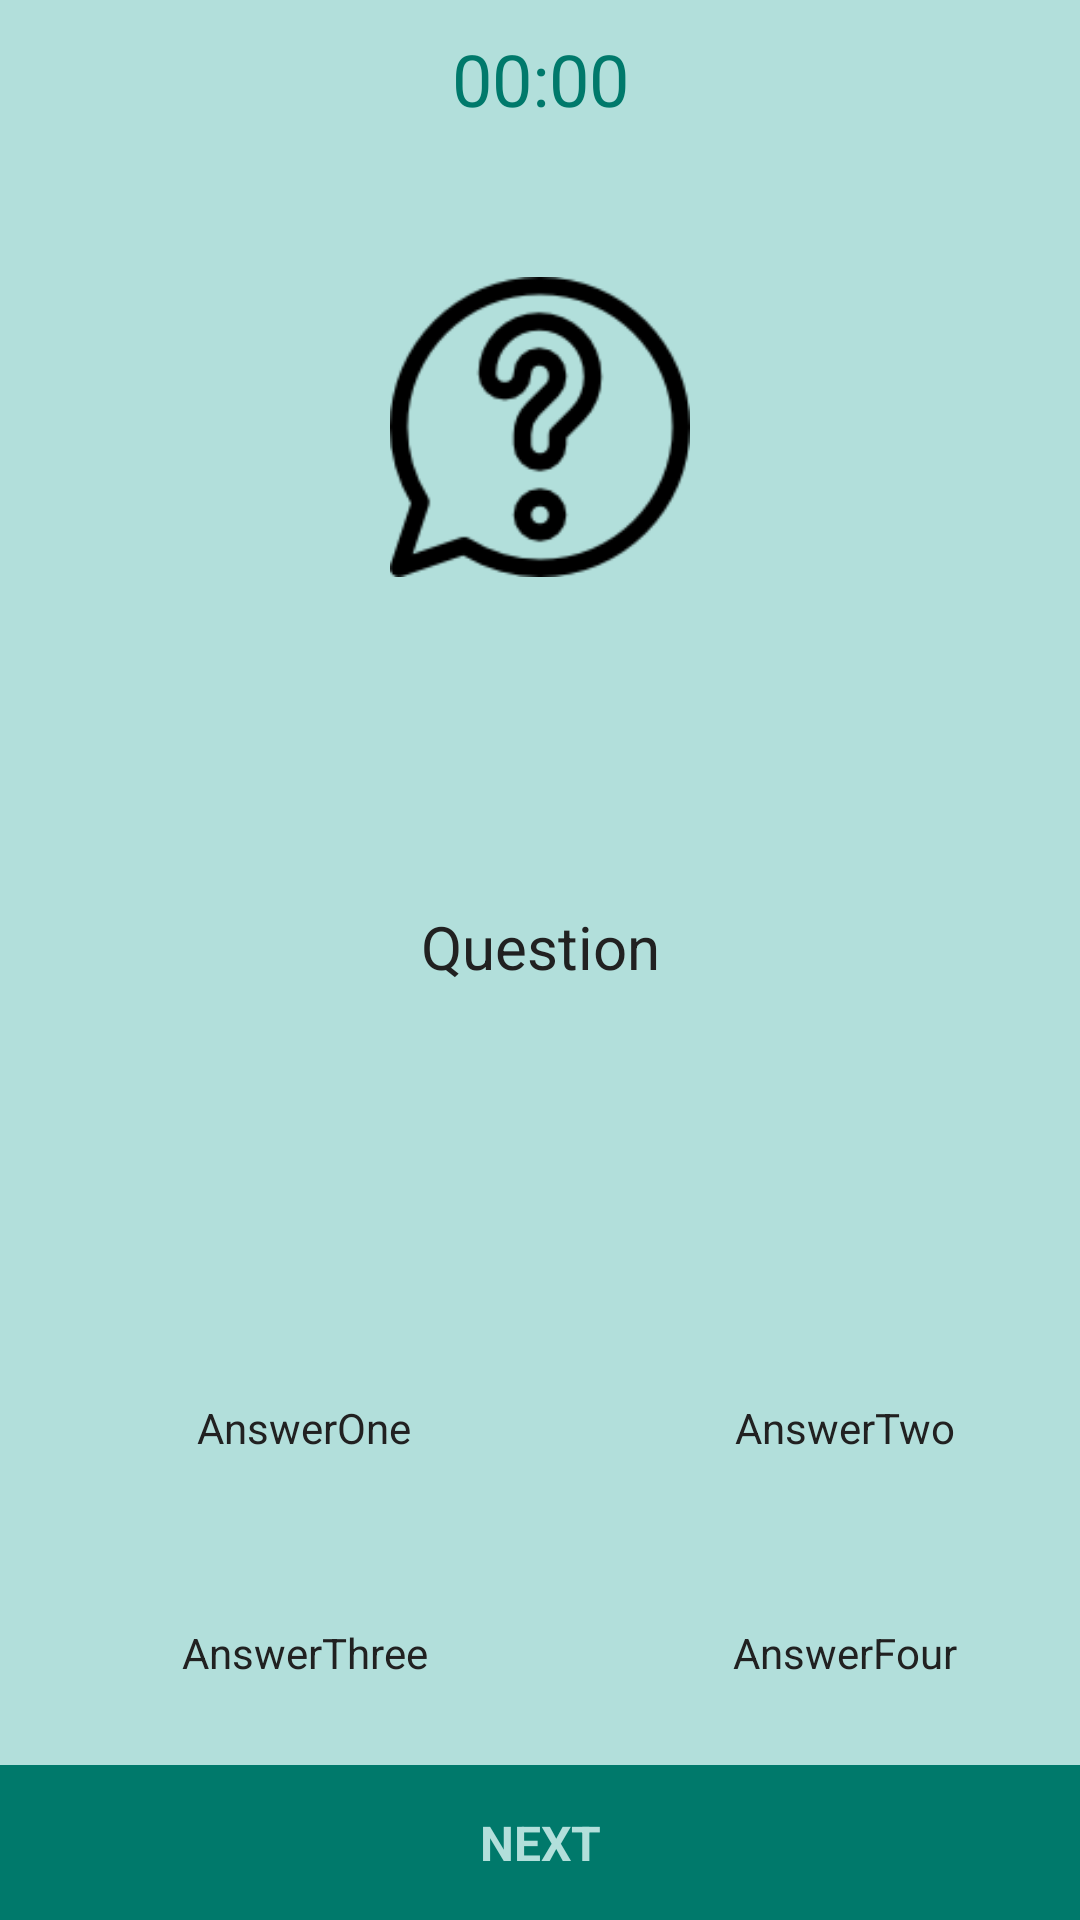

Where icons sit on this 1080x1920 app screen, as box(x1, y1, x2, y2):
Icon Question: box(390, 277, 690, 577)
